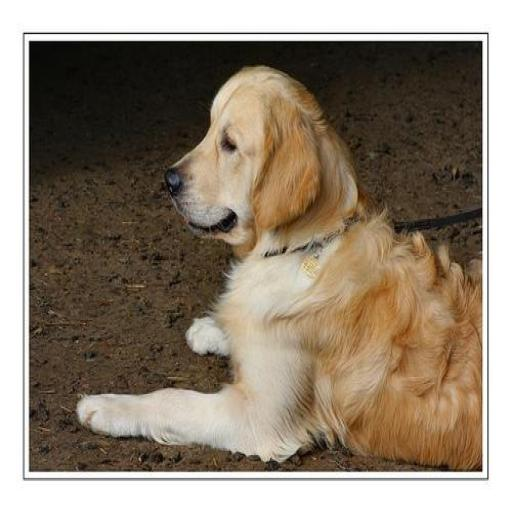dog_face: (163, 67, 352, 250)
